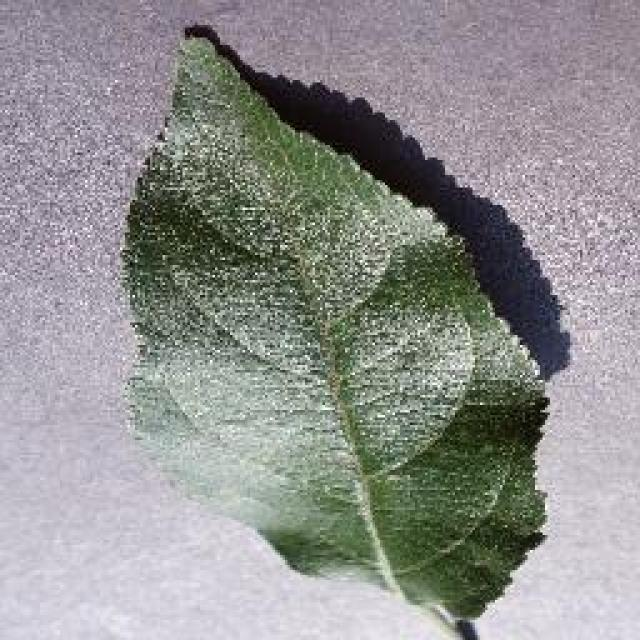apple healthy: (115, 20, 555, 628)
